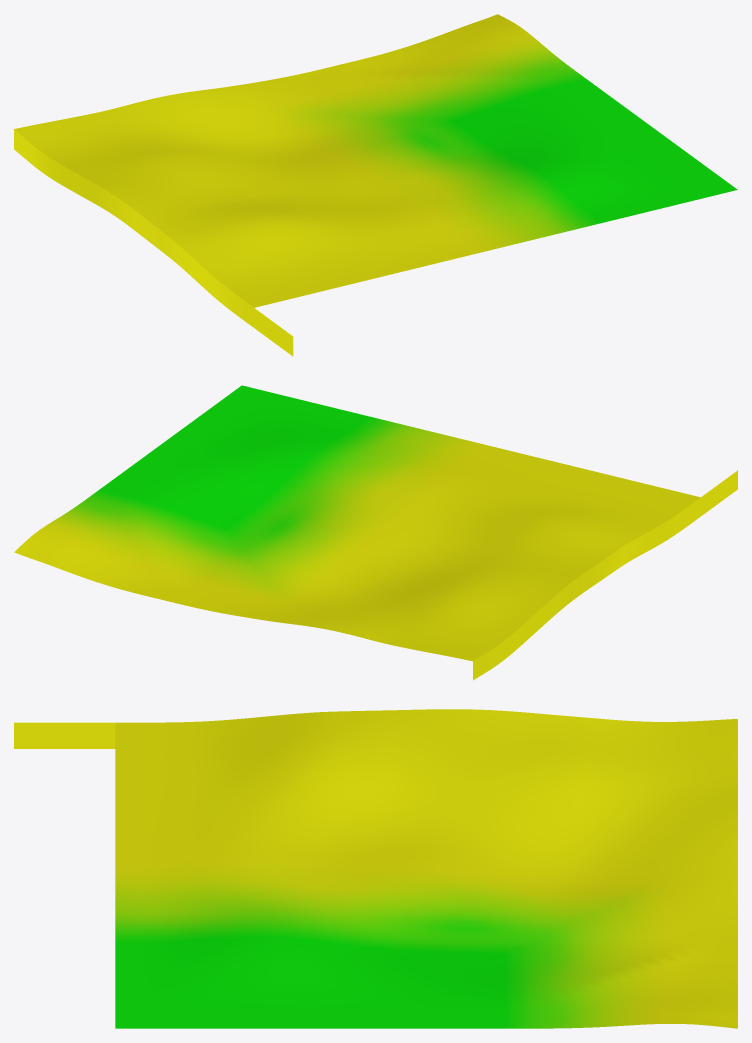
File: terrain_0_2.glb
3 renders of one model, top to bottom at view 1: azimuth 30°, elevation 25°; view 2: azimuth 150°, elevation 25°; view 3: azimuth 270°, elevation 25°, orthographic. The views are drawn at different scales.
Visible parts, largest first — view 1: terrain_0_2.0, terrain_0_2.1; view 2: terrain_0_2.0, terrain_0_2.1; view 3: terrain_0_2.0, terrain_0_2.1.
Part boxes in pixels (x1,y1,x2,y2): terrain_0_2.0: (14,14,737,307); terrain_0_2.1: (14,129,293,356); terrain_0_2.0: (14,385,700,661); terrain_0_2.1: (473,470,737,680); terrain_0_2.0: (115,709,737,1028); terrain_0_2.1: (14,722,115,748).
Bounding box in the file's own units: 50 × 3.04 × 50.
